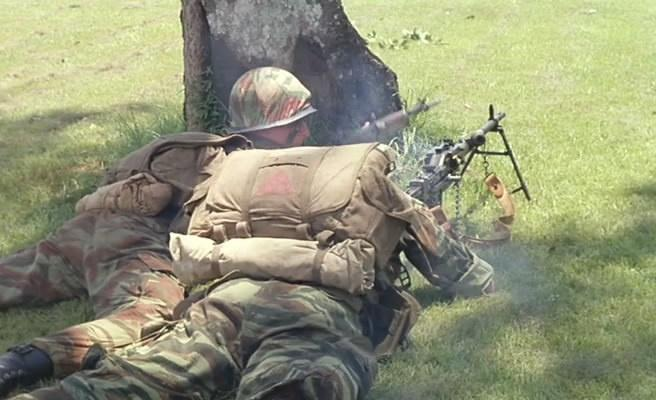gun: (401, 101, 526, 221)
